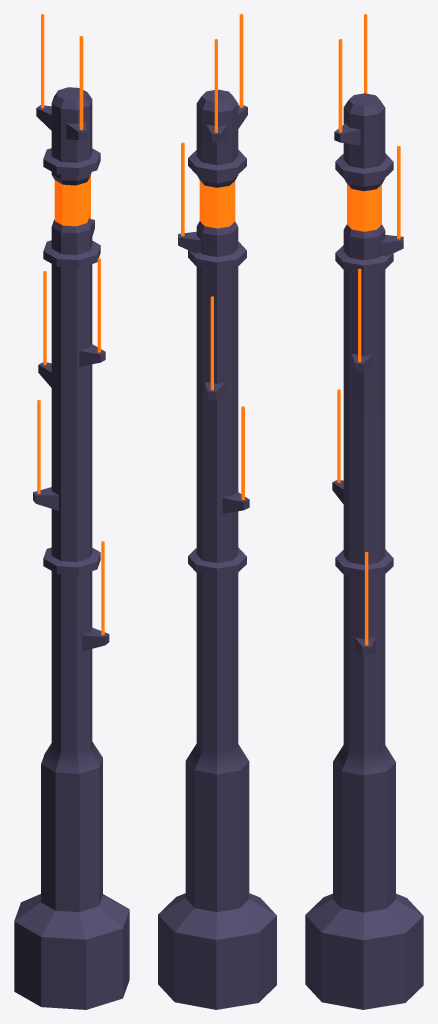
The model's file is Antena_04.fbx.
3 renders of one model, left to right at view 1: azimuth 30°, elevation 25°; view 2: azimuth 150°, elevation 25°; view 3: azimuth 330°, elevation 25°, orthographic.
Visible parts, largest first — view 1: Antena_04; view 2: Antena_04; view 3: Antena_04.
Part boxes in pixels (bbox=[...]): Antena_04: bbox=[14, 14, 129, 1009]; Antena_04: bbox=[158, 14, 276, 1009]; Antena_04: bbox=[305, 14, 423, 1009].
Size of the model in its own units: 709 by 6576 by 709.
